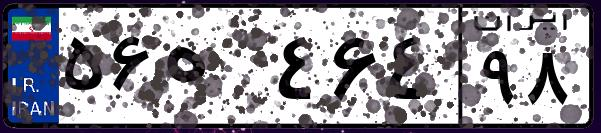4: (270, 28, 330, 110), (385, 28, 445, 110)
5: (57, 26, 110, 100)
6: (330, 28, 385, 110), (110, 28, 158, 98)
8: (525, 38, 570, 115)
9: (475, 38, 525, 113)
ه: (158, 20, 270, 120)
